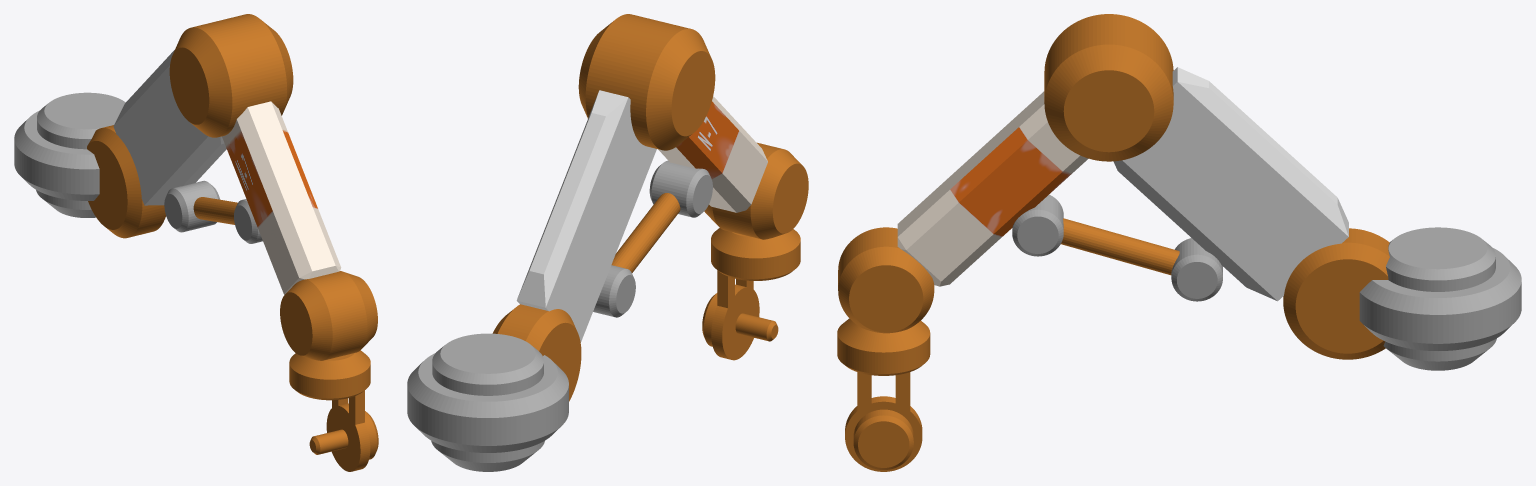
The model's file is ningauble_leg.dae.
3 views of the same model, side by side, from view 1: azimuth 30°, elevation 25°; view 2: azimuth 150°, elevation 25°; view 3: azimuth 270°, elevation 25° (orthographic). The views are drawn at different scales.
Parts seen in each view (by area): view 1: LegTibia, LegKneeMotor, HipYawMotor, LegThigh, LegAnkelPitchMotor, LegAnkleYaw, HipPitchMotor, LegThighMotorUpperPivot, LegTHighMotor, LegThighMotorLowerPivot; view 2: HipYawMotor, LegThigh, LegKneeMotor, LegAnkleYaw, LegTibia, LegAnkelPitchMotor, HipPitchMotor, LegThighMotorLowerPivot, LegTHighMotor, LegThighMotorUpperPivot; view 3: LegThigh, HipYawMotor, LegKneeMotor, LegTibia, LegAnkleYaw, HipPitchMotor, LegAnkelPitchMotor, LegTHighMotor, LegThighMotorUpperPivot, LegThighMotorLowerPivot.
Part boxes in pixels (box(x1,y1,x2,y2)): LegTibia: box(222, 101, 341, 294); LegKneeMotor: box(169, 14, 293, 137); HipYawMotor: box(14, 92, 125, 217); LegThigh: box(113, 50, 226, 205); LegAnkelPitchMotor: box(280, 271, 377, 360); LegAnkleYaw: box(289, 350, 378, 471); HipPitchMotor: box(87, 125, 165, 238); LegThighMotorUpperPivot: box(164, 180, 219, 232); LegTHighMotor: box(193, 197, 237, 224); LegThighMotorLowerPivot: box(234, 199, 262, 243); HipYawMotor: box(407, 333, 568, 471); LegThigh: box(516, 90, 656, 342); LegKneeMotor: box(578, 14, 715, 150); LegAnkleYaw: box(702, 228, 800, 360); LegTibia: box(658, 96, 767, 212); LegAnkelPitchMotor: box(704, 142, 808, 239); HipPitchMotor: box(492, 304, 581, 401); LegThighMotorLowerPivot: box(649, 160, 712, 217); LegTHighMotor: box(611, 193, 680, 272); LegThighMotorUpperPivot: box(593, 265, 635, 317); LegThigh: box(1113, 67, 1348, 301); HipYawMotor: box(1359, 227, 1521, 370); LegKneeMotor: box(1044, 14, 1173, 161); LegTibia: box(897, 91, 1088, 286); LegAnkleYaw: box(837, 318, 930, 471); HipPitchMotor: box(1283, 228, 1389, 359); LegAnkelPitchMotor: box(838, 227, 934, 333); LegTHighMotor: box(1061, 218, 1179, 275); LegThighMotorUpperPivot: box(1171, 238, 1222, 301); LegThighMotorLowerPivot: box(1012, 194, 1063, 256).
Size of the model in its own units: 0.1296 by 0.53 by 0.3671.
